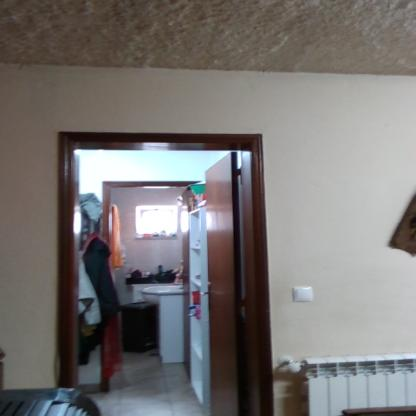open: (48, 111, 277, 404)
